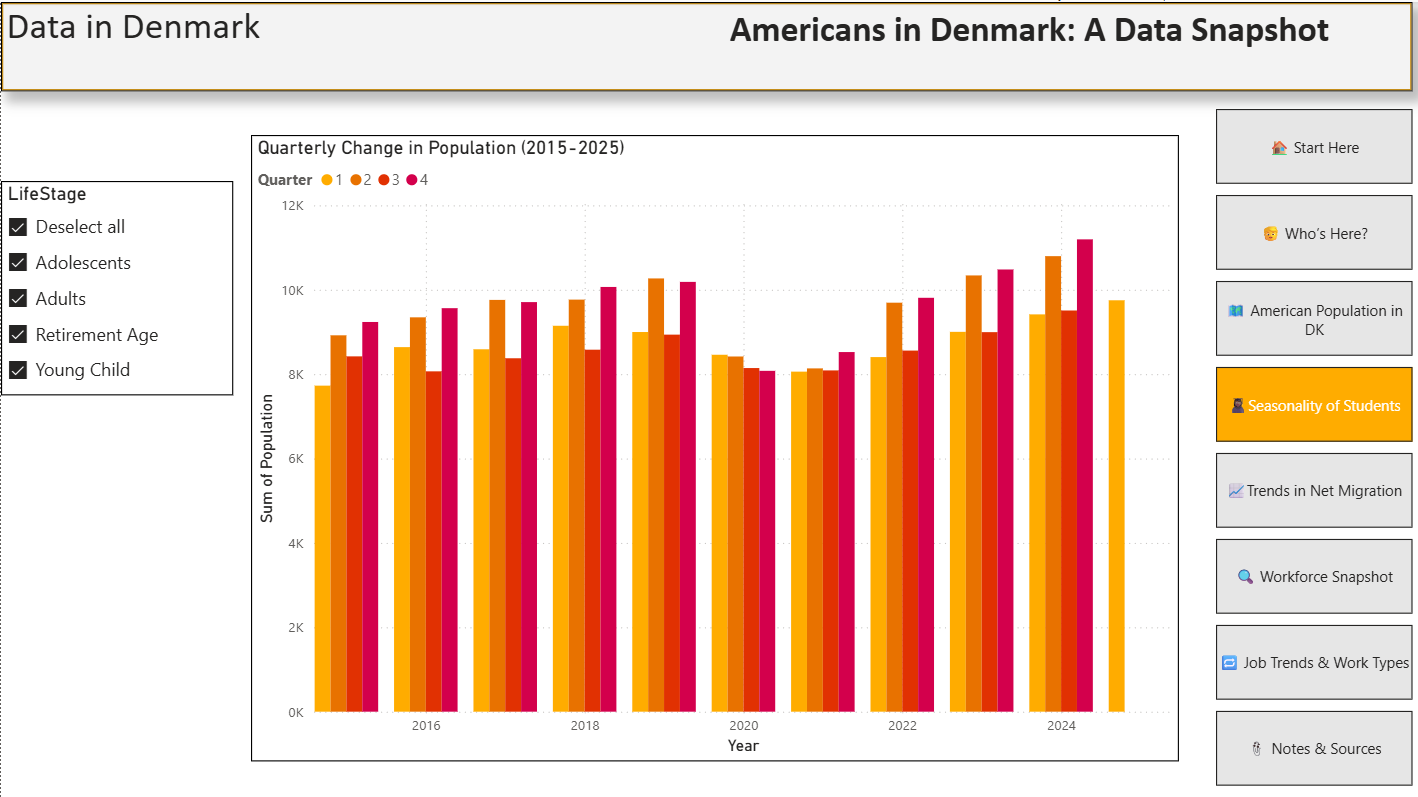

The page's visual inventory and layout, read from the dashboard file:
{"tool":"powerbi","page":{"name":"👩🏾🎓Seasonality of Students","canvas":[1280,720],"ordinal":3},"visuals":[{"type":"group","id":"g1","title":"Group 3","box":[0,0,1264,80],"z":0},{"type":"shape","box":[0,0,1264,80],"z":0,"group":"g1"},{"type":"lineClusteredColumnComboChart","title":"Quarterly Change in Population (2015-2025)","fields":{"Category":["fact_age_pop_quarters.Time.Year"],"Y":["Sum(fact_age_pop_quarters.Population)"],"Series":["fact_age_pop_quarters.Time.Quarter"]},"box":[224.3,118.9,831.1,560.8],"z":1000},{"type":"listSlicer","fields":{"Values":["Dim_AgeGroup.LifeStage"]},"box":[0,160,208,192],"z":2000},{"type":"pageNavigator","box":[1088,96,176,608],"z":3000},{"type":"textbox","title":"Data in Denmark","box":[0,0,265,80],"z":4000,"group":"g2"},{"type":"textbox","box":[640,0,623.8,80],"z":5000,"group":"g2"},{"type":"group","id":"g2","title":"Group 4","box":[0,0,1263.8,80],"z":5002,"group":"g1"}]}

Visuals, with their boxes in screenshot pixels (x1, y1, x2, y2), scaled from the page's 1280x720 canvas onto the 1418x797 screenshot:
"Group 3" group: [0, 0, 1400, 89]
shape: [0, 0, 1400, 89]
"Quarterly Change in Population (2015-2025)" lineClusteredColumnComboChart: [248, 132, 1169, 752]
listSlicer - Dim_AgeGroup.LifeStage: [0, 177, 230, 390]
pageNavigator: [1205, 106, 1400, 779]
"Data in Denmark" textbox: [0, 0, 294, 89]
textbox: [709, 0, 1400, 89]
"Group 4" group: [0, 0, 1400, 89]
